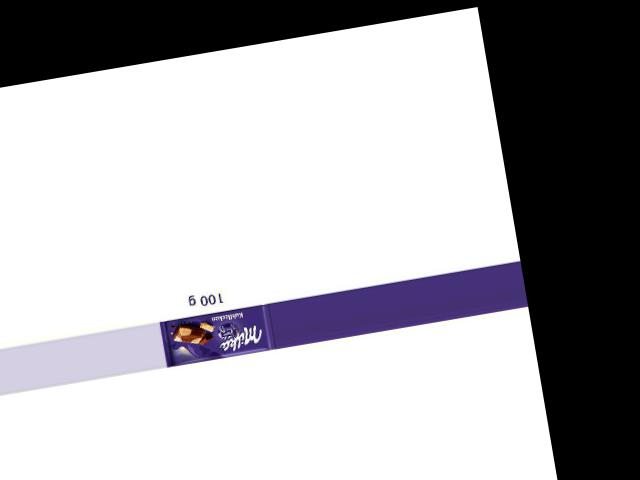chocolate: (157, 296, 275, 369)
